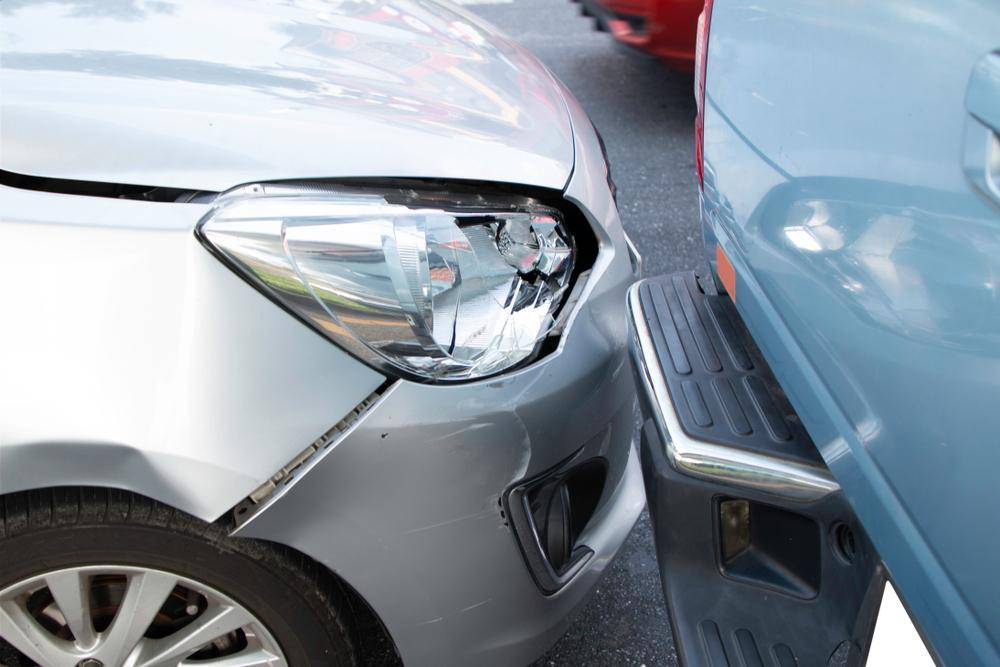dent: (0, 443, 192, 511), (585, 247, 636, 350)
lamp broken: (197, 179, 596, 381)
scratch: (408, 363, 550, 538)
